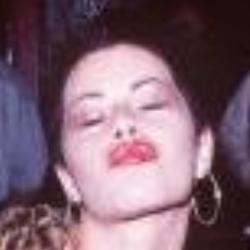face: (22, 7, 229, 238)
